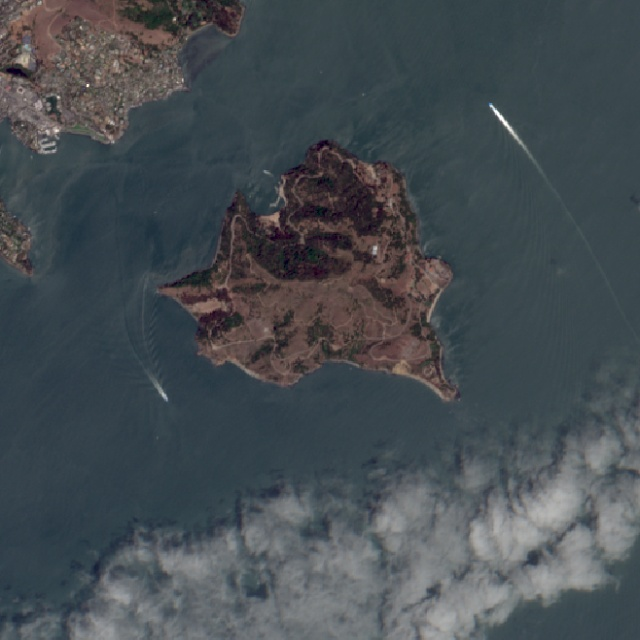wake: (80, 290, 203, 426)
